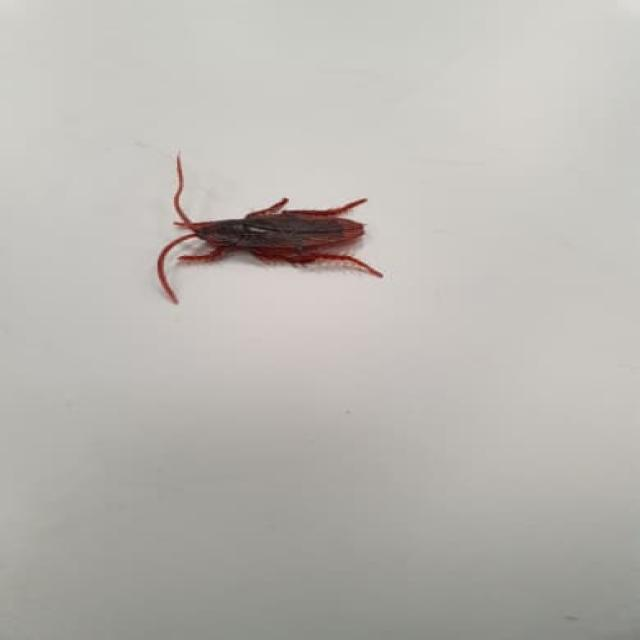Cockroach: (153, 164, 384, 314)
